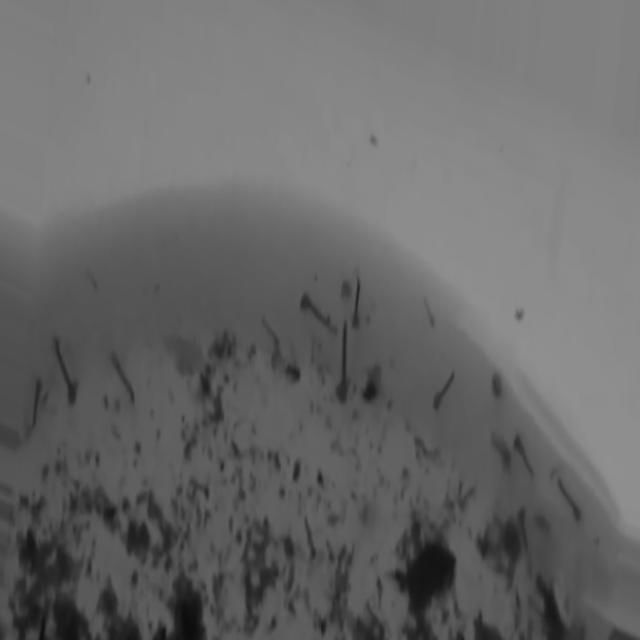larvas: (265, 323, 300, 378), (54, 332, 75, 400), (335, 324, 351, 401), (558, 473, 582, 522), (302, 297, 336, 331), (26, 376, 45, 431), (111, 356, 135, 396), (434, 371, 457, 408), (514, 432, 534, 469), (352, 274, 363, 326), (426, 292, 438, 328)
